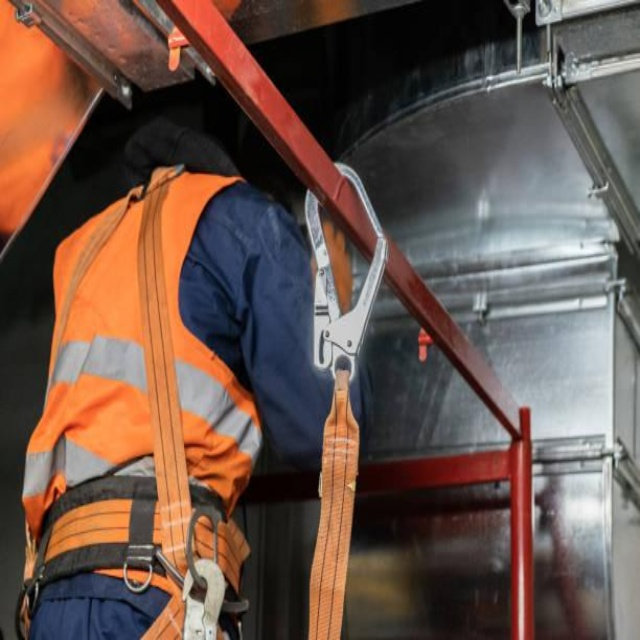Arnes_seguridad: (17, 171, 237, 640)
